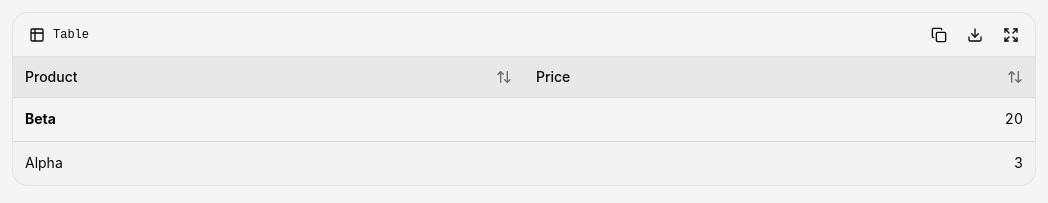
Advanced chat tables › sorts numerically, reverses and restores original ordering without changing source copying
Check: the row "Beta 20" is shown, box x1=13 y1=98 x2=1035 y2=141
Click the button with aria-label "Sort by Price".
click(553, 76)  # box x1=524 y1=57 x2=1035 y2=97
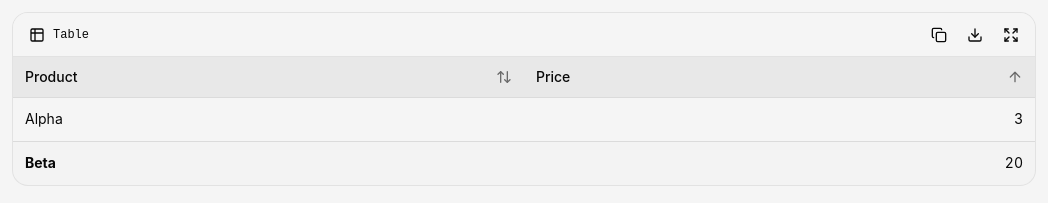
Check: the row "Alpha 3" is shown, box x1=13 y1=98 x2=1035 y2=141
Check: the column heading "Price" has attribute aria-sort="ascending"
Click the button with aria-label "Sort by Price".
click(553, 76)  # box x1=524 y1=57 x2=1035 y2=97
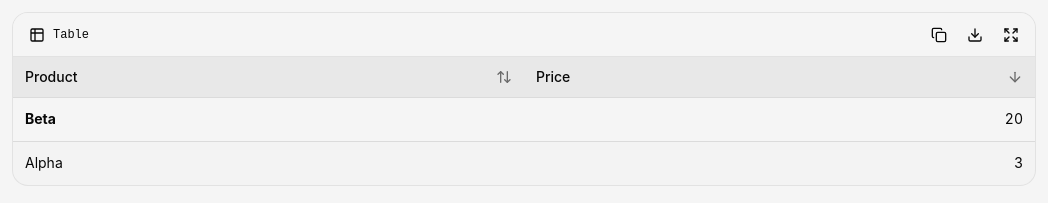
Check: the row "Beta 20" is shown, box x1=13 y1=98 x2=1035 y2=141
Click the button with aria-label "Sort by Price".
click(553, 76)  # box x1=524 y1=57 x2=1035 y2=97
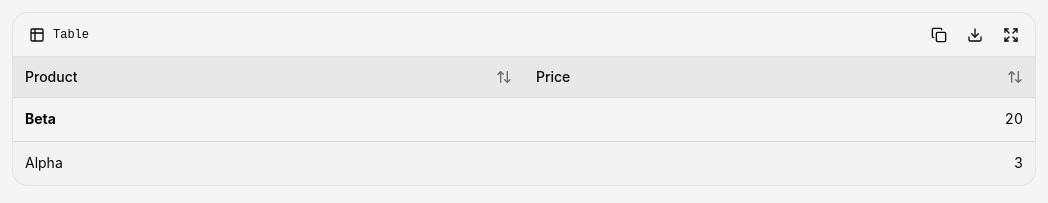
Check: the column heading "Price" has attribute aria-sort="none", box x1=524 y1=57 x2=1035 y2=98
